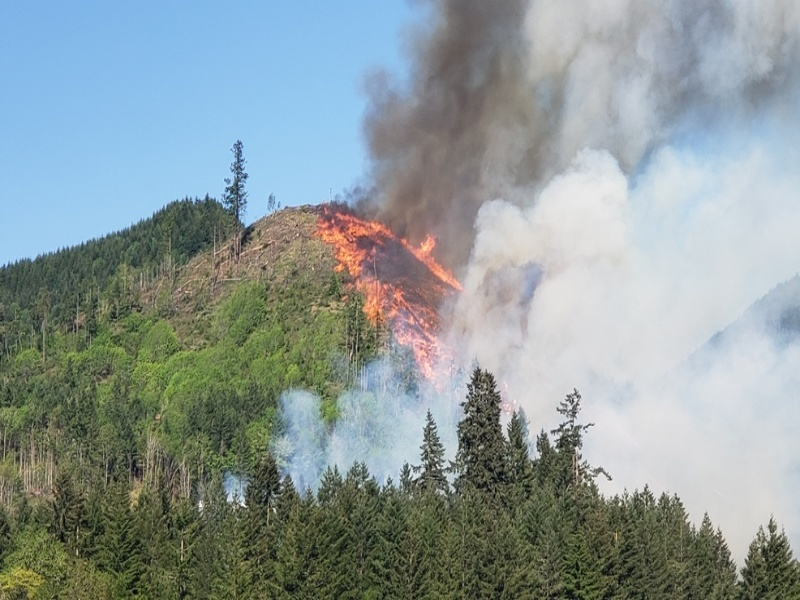smoke: (357, 1, 793, 250)
